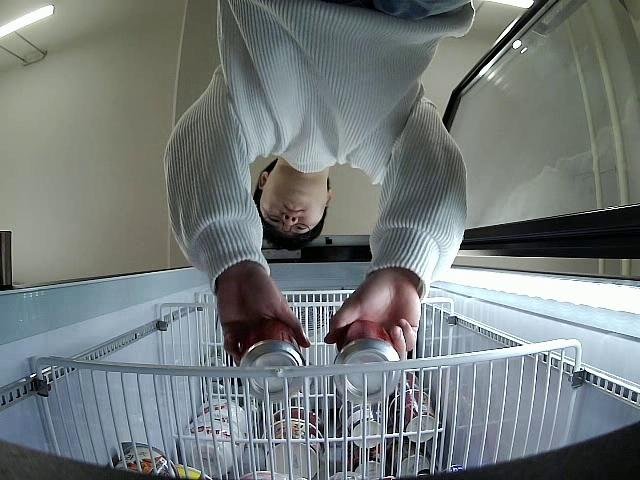00_hand: (216, 272, 311, 365), (323, 277, 423, 359)
11_cocaColaZero: (334, 322, 402, 402), (239, 323, 306, 398)
